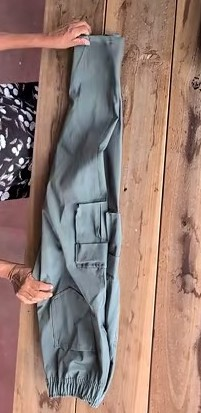TROUSER: (43, 12, 153, 413)
